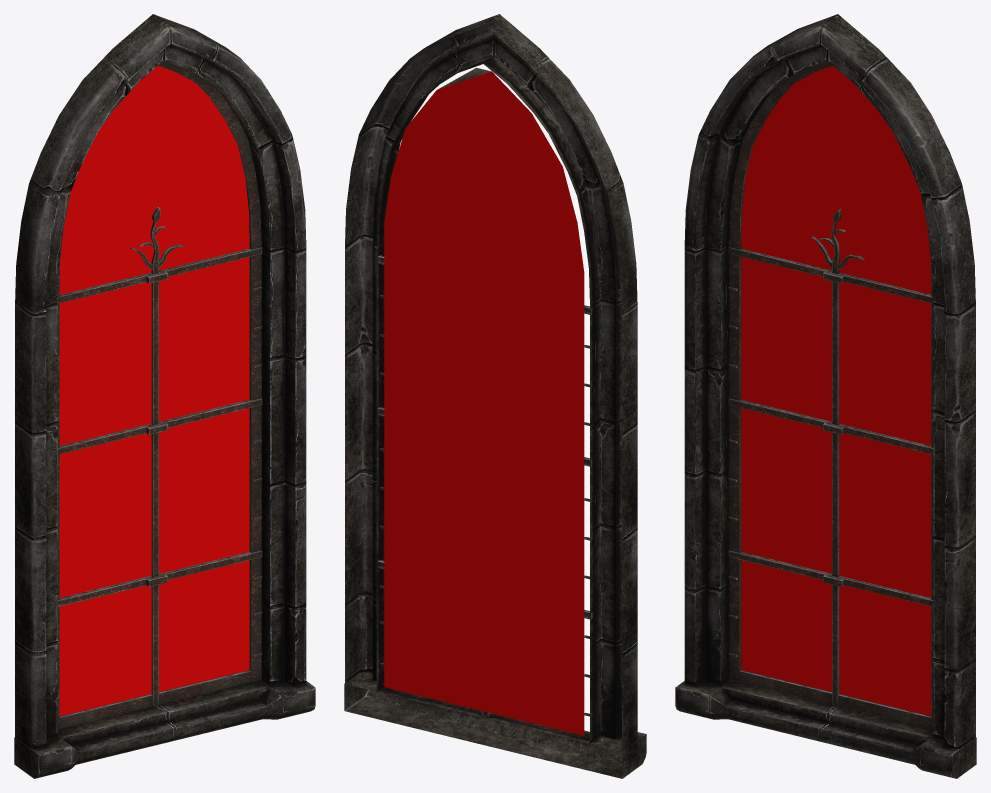
Rendered from MedievalWindow.obj.
3 renders of one model, left to right at view 1: azimuth 30°, elevation 25°; view 2: azimuth 150°, elevation 25°; view 3: azimuth 330°, elevation 25°, orthographic.
Parts seen in each view (by area): view 1: MedievalWindow; view 2: MedievalWindow; view 3: MedievalWindow.
Boxes of the visible parts, <box> form: MedievalWindow: <box>14,14,315,778</box>; MedievalWindow: <box>344,14,646,778</box>; MedievalWindow: <box>675,14,976,778</box>.
Bounding box in the file's own units: 10.89 × 26.93 × 1.63.
